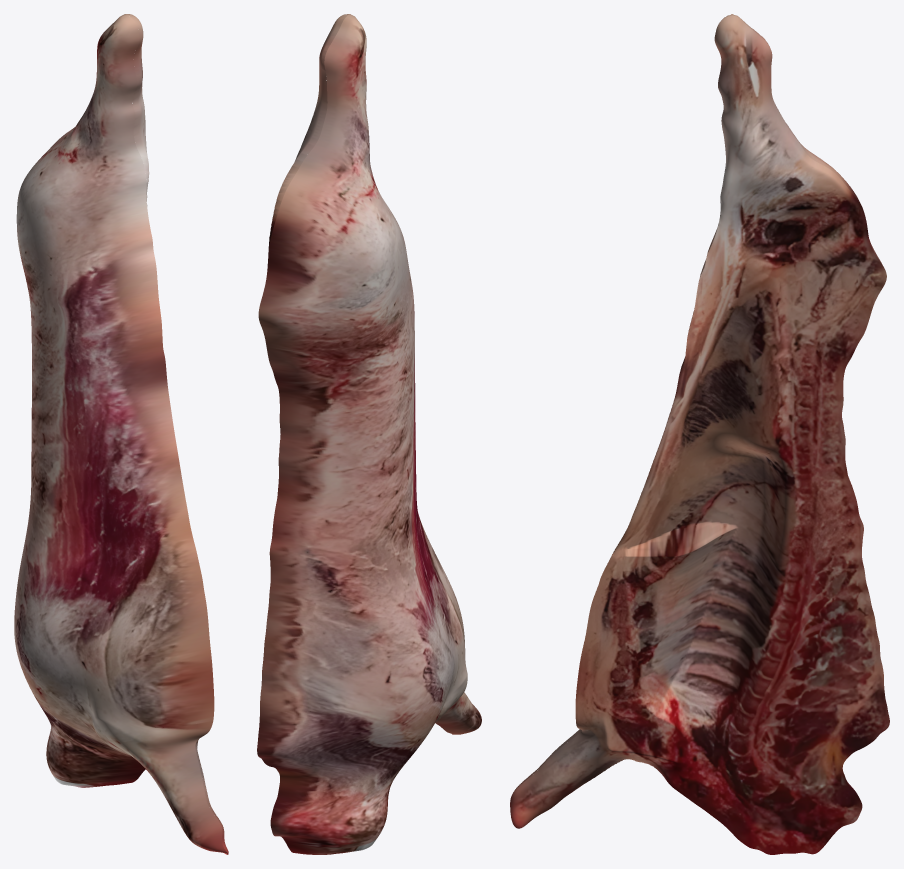
File: demi_carcasse_boeuf_v18.glb
3 renders of one model, left to right at view 1: azimuth 30°, elevation 25°; view 2: azimuth 150°, elevation 25°; view 3: azimuth 270°, elevation 25°, orthographic. The views are drawn at different scales.
Visible parts, largest first — view 1: face_exterieure, face_de_fente; view 2: face_exterieure, face_de_fente; view 3: face_de_fente, face_exterieure.
Boxes of the visible parts, x1=… form: face_exterieure: x1=14, y1=14, x2=228, y2=854; face_de_fente: x1=126, y1=14, x2=228, y2=853; face_exterieure: x1=257, y1=14, x2=481, y2=854; face_de_fente: x1=268, y1=14, x2=452, y2=734; face_de_fente: x1=510, y1=15, x2=889, y2=854; face_exterieure: x1=513, y1=14, x2=882, y2=792.
Size of the model in its own units: 0.4164 by 2.5 by 1.03.
Materials: 2 (2 with a texture image).
